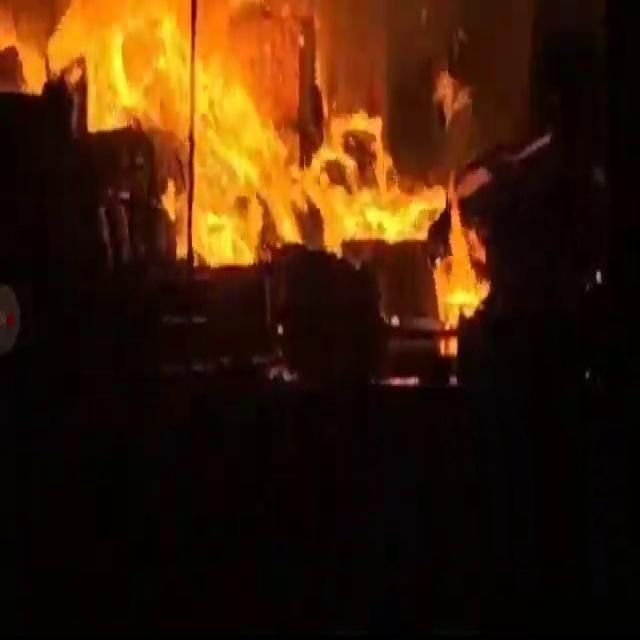Fire: (7, 7, 491, 356)
